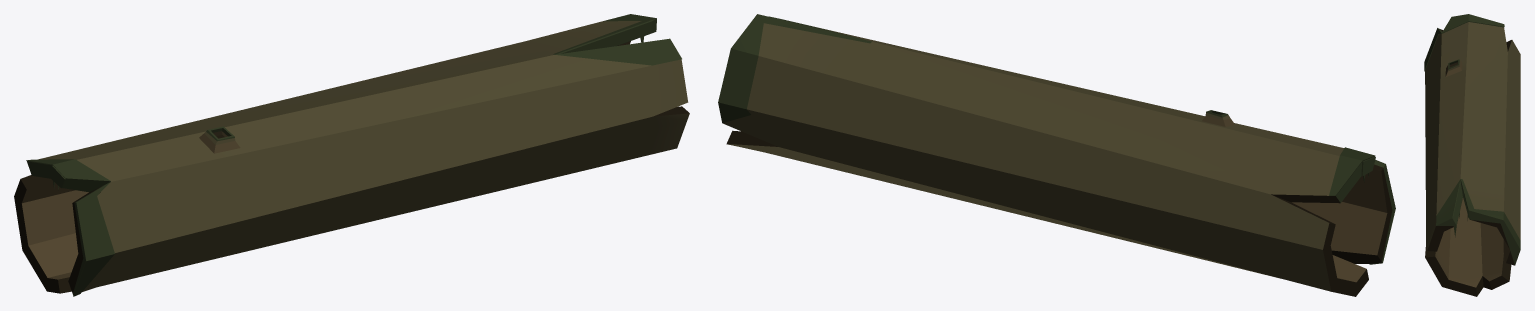
File: LP_ASST_HollowLog.fbx
3 renders of one model, left to right at view 1: azimuth 30°, elevation 25°; view 2: azimuth 150°, elevation 25°; view 3: azimuth 270°, elevation 25°, orthographic. The views are drawn at different scales.
Visible parts, largest first — view 1: Hollow_Log; view 2: Hollow_Log; view 3: Hollow_Log.
Part boxes in pixels (x1,y1,x2,y2): Hollow_Log: (14,14,689,296); Hollow_Log: (718,14,1395,296); Hollow_Log: (1424,14,1520,296).
Size of the model in its own units: 11.33 by 2.42 by 2.35.
